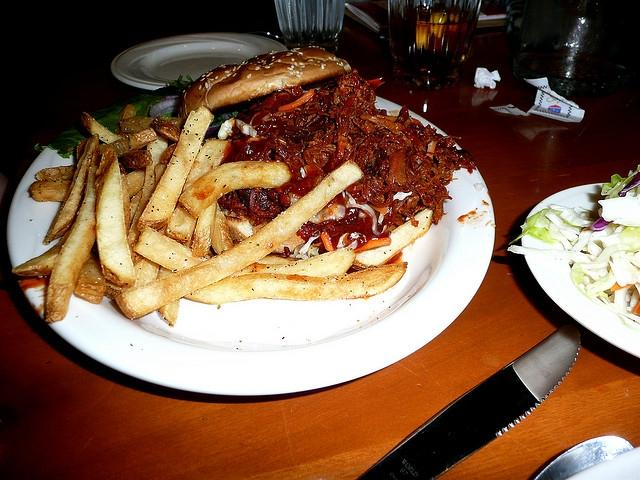lettuce: (598, 164, 640, 218), (51, 122, 93, 154), (508, 226, 560, 246), (545, 210, 581, 235), (599, 227, 640, 248), (96, 106, 124, 133), (573, 272, 585, 284), (162, 112, 178, 118)
